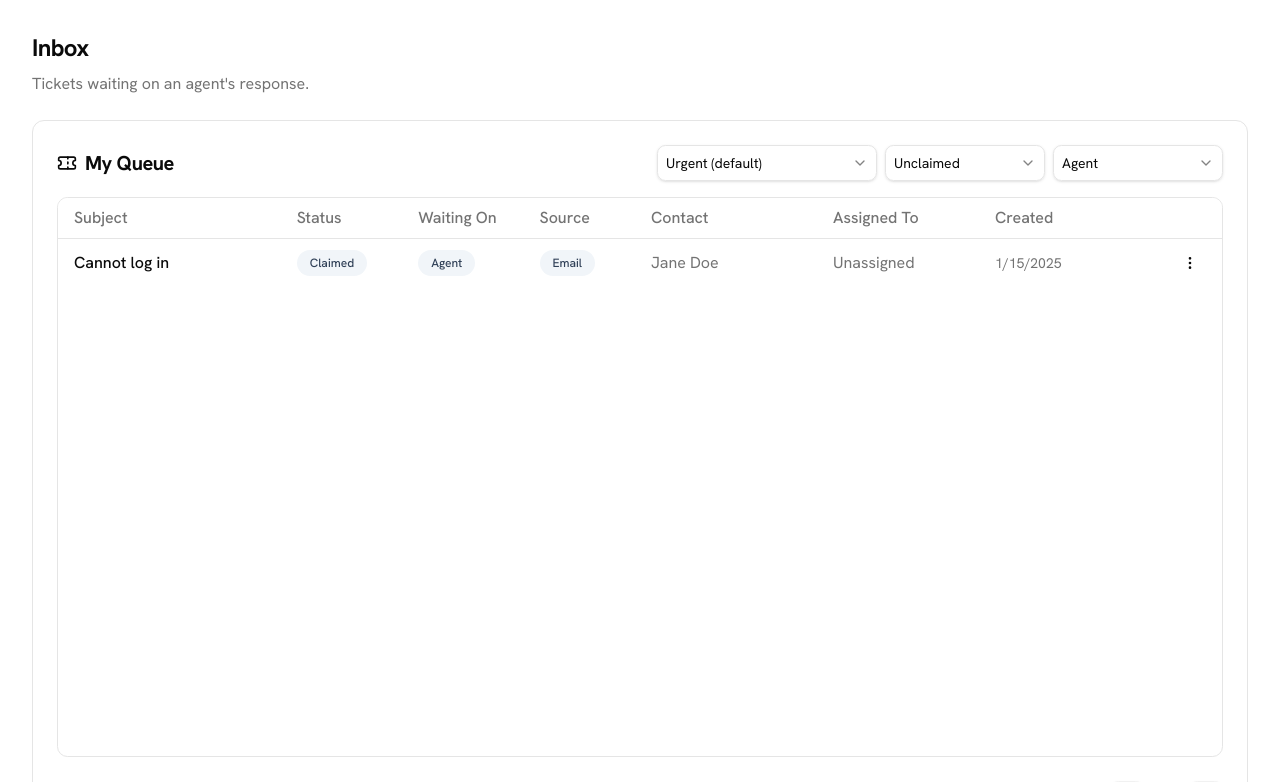
Test: TicketListPage (Inbox props) › supports Cancel (with confirmation dialog) through the Inbox props and drops the now-terminal row
The image size is (1280, 782).
Click the button named "More options" at coordinates (1190, 262), box [1174,246,1206,278]
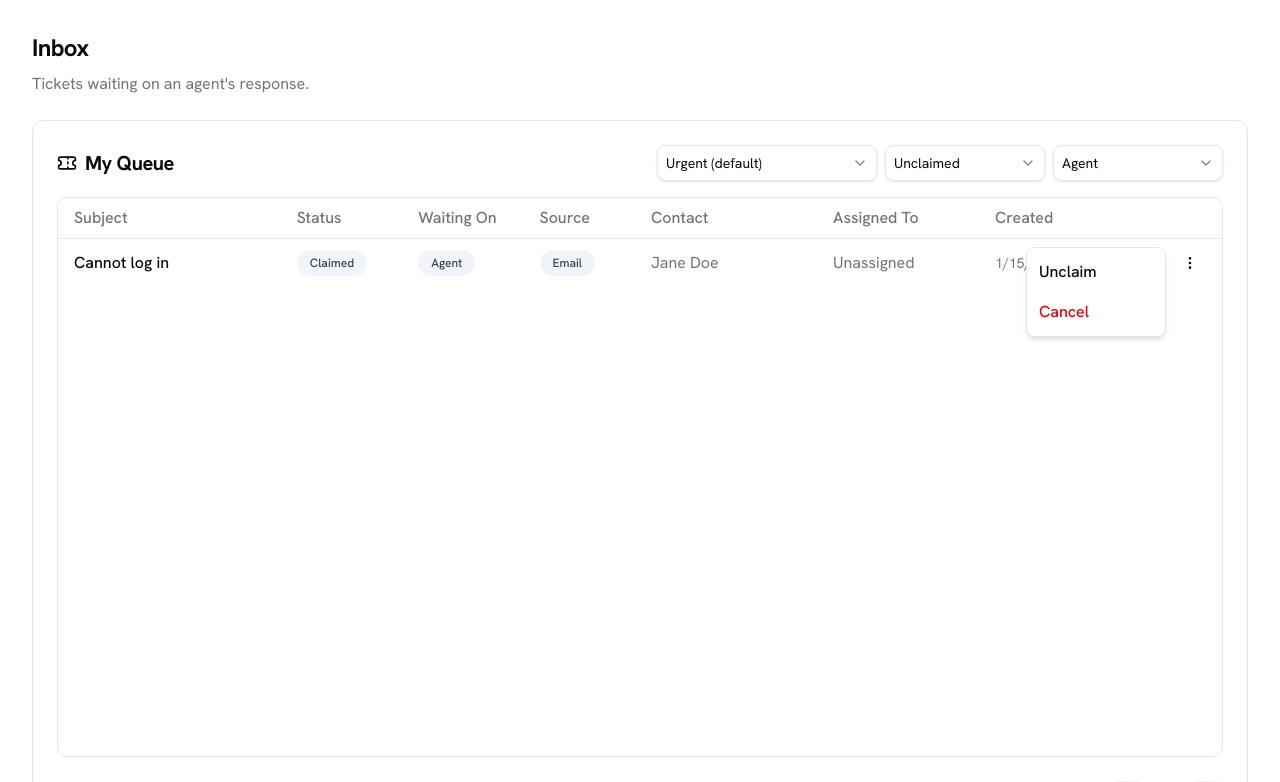
Click the menu item "Cancel" at coordinates (1064, 312), box [1039,301,1089,322]
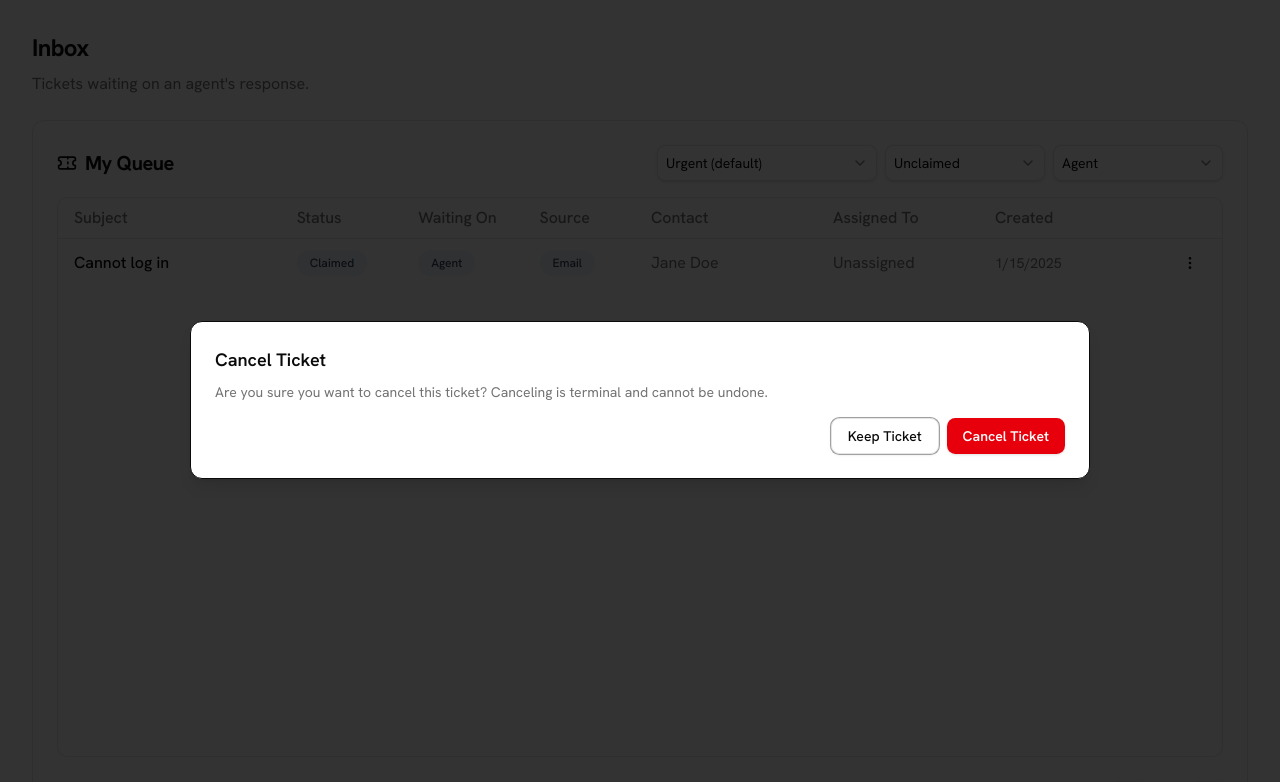
Click the button "Cancel Ticket" at coordinates (1006, 436), box [947,418,1065,454]
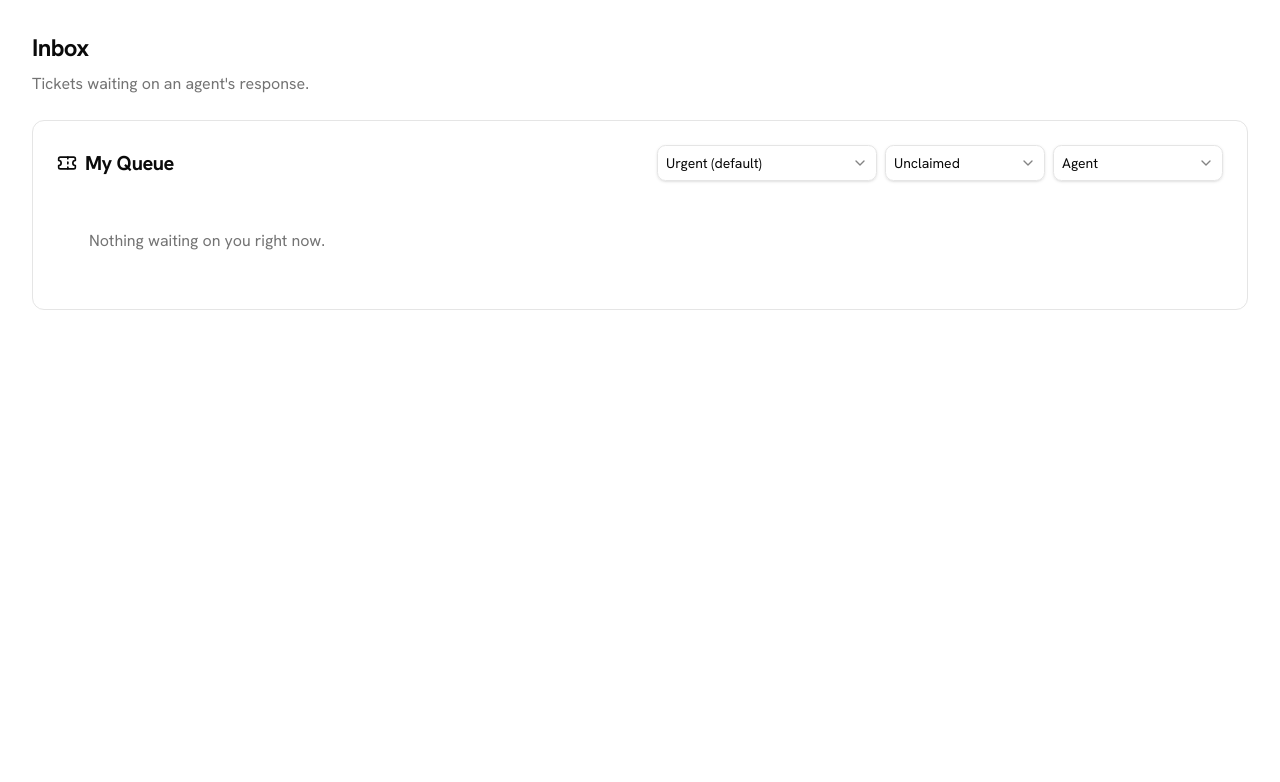
Result: the text "Cannot log in" is gone
